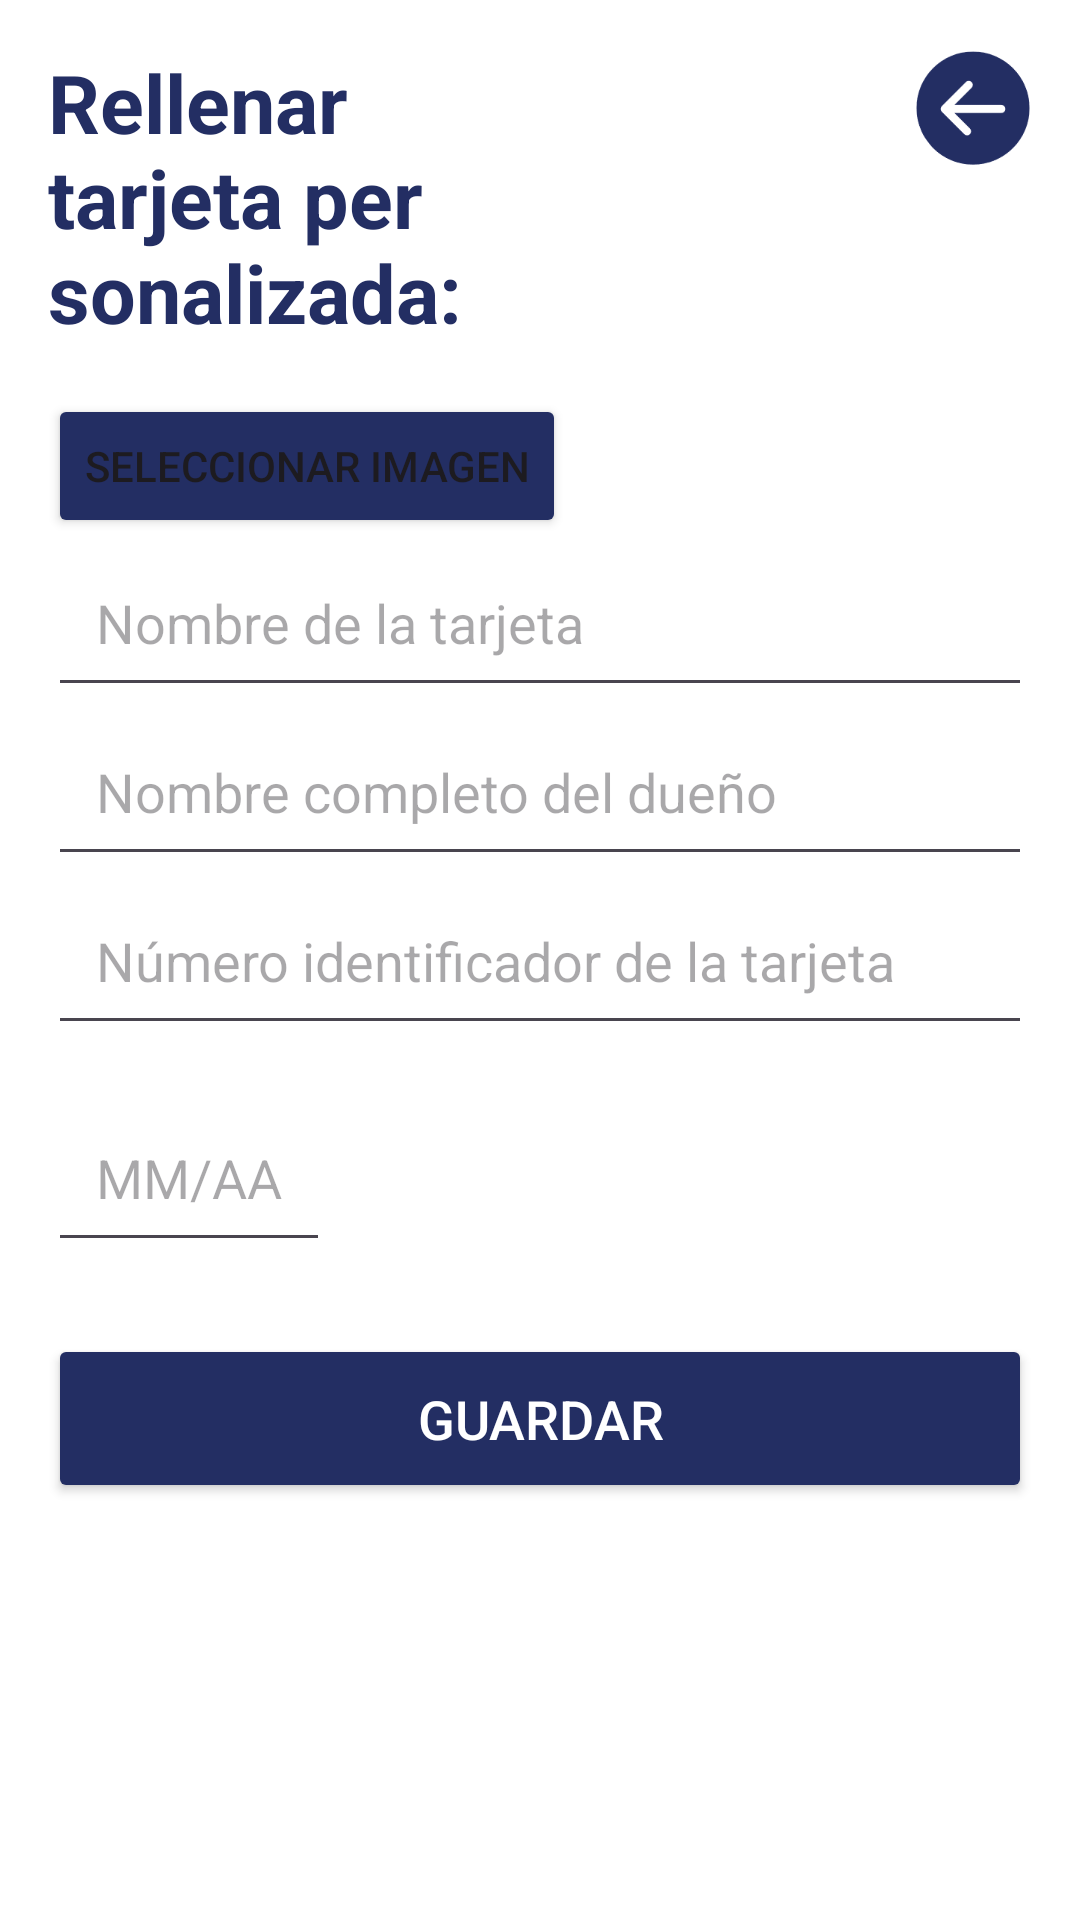

Screen size 1080px x 1920px. Icon name, then its center in pixels as point (x, y):
goback: point (973, 108)
